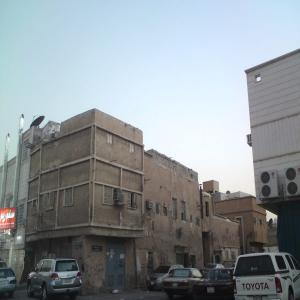Vehicle-registration-plate: (208, 288, 215, 294), (2, 281, 7, 287), (66, 280, 71, 284), (151, 282, 155, 286)
